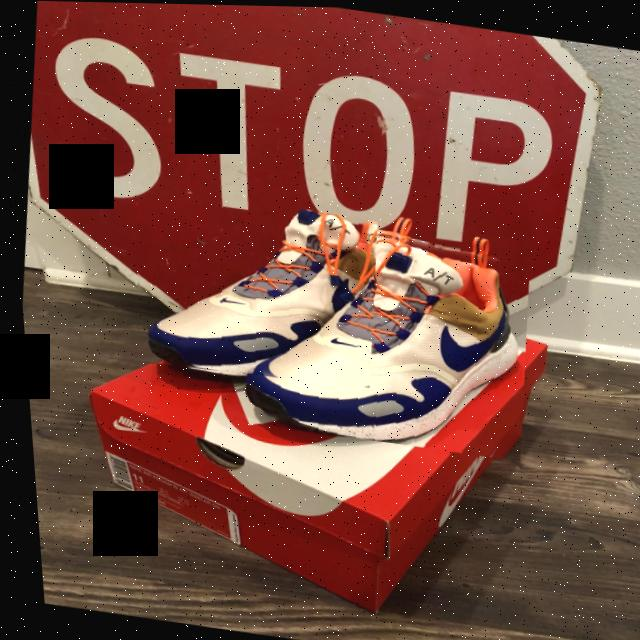shoe: (229, 208, 539, 459), (113, 185, 384, 393)
